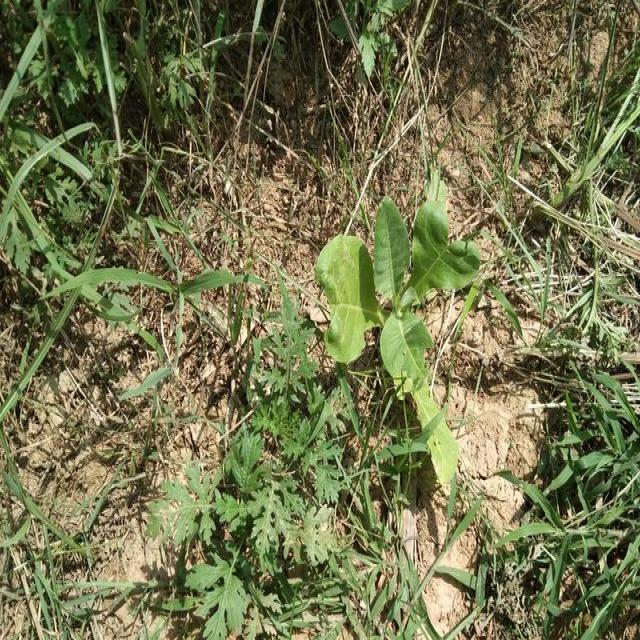crop: (319, 199, 464, 485)
